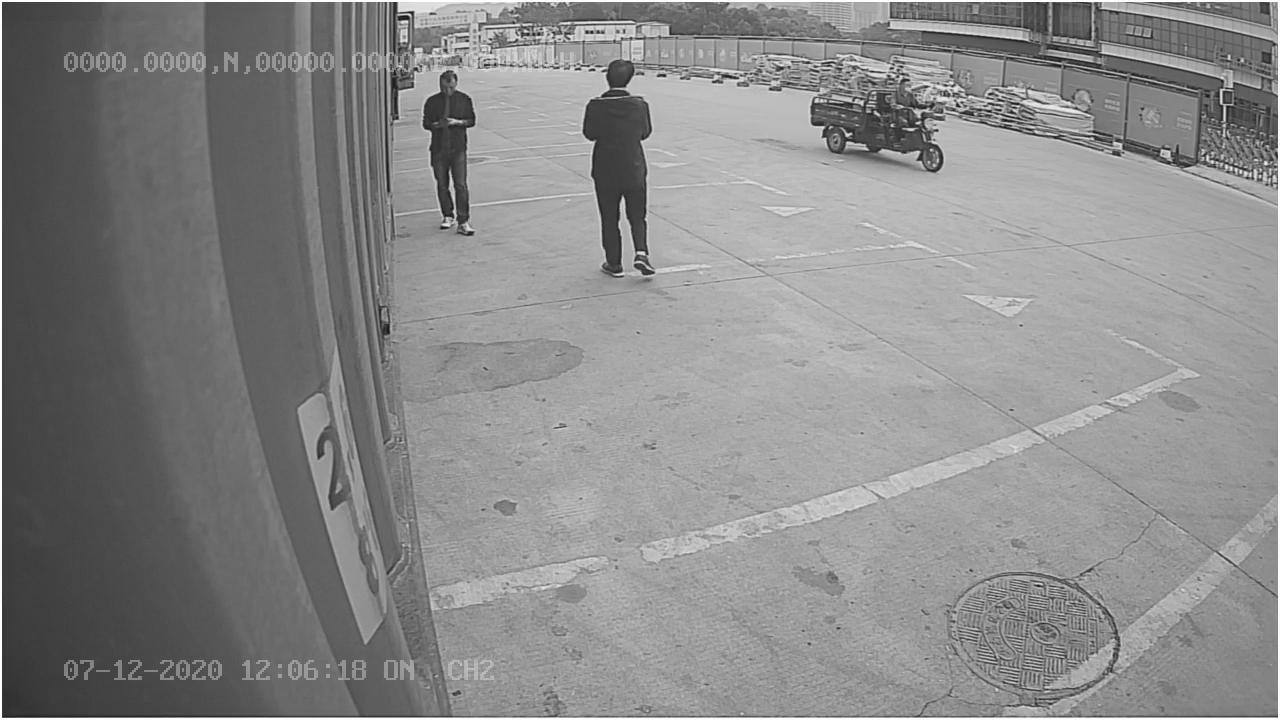person: (579, 57, 663, 286)
